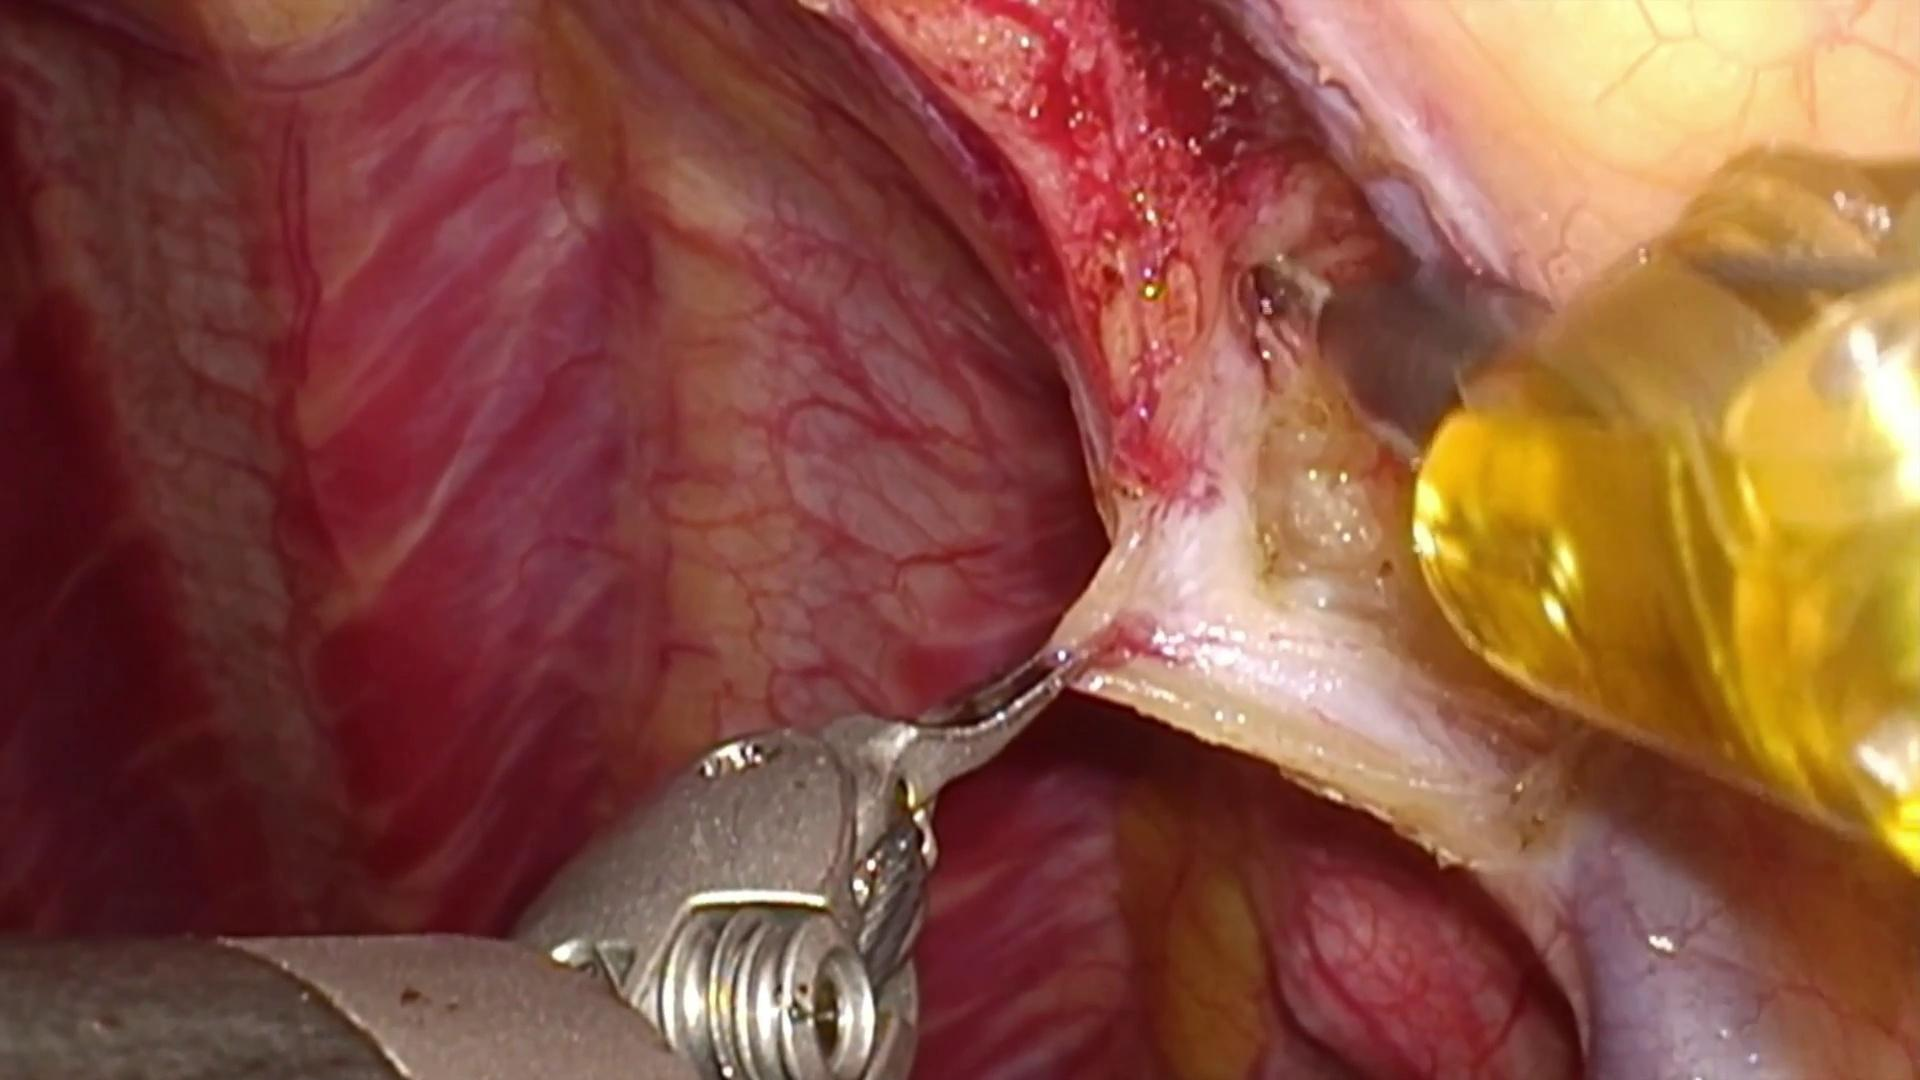Cautery_Spatula: (1224, 239, 1569, 456)
Debakey: (824, 634, 1085, 837)
